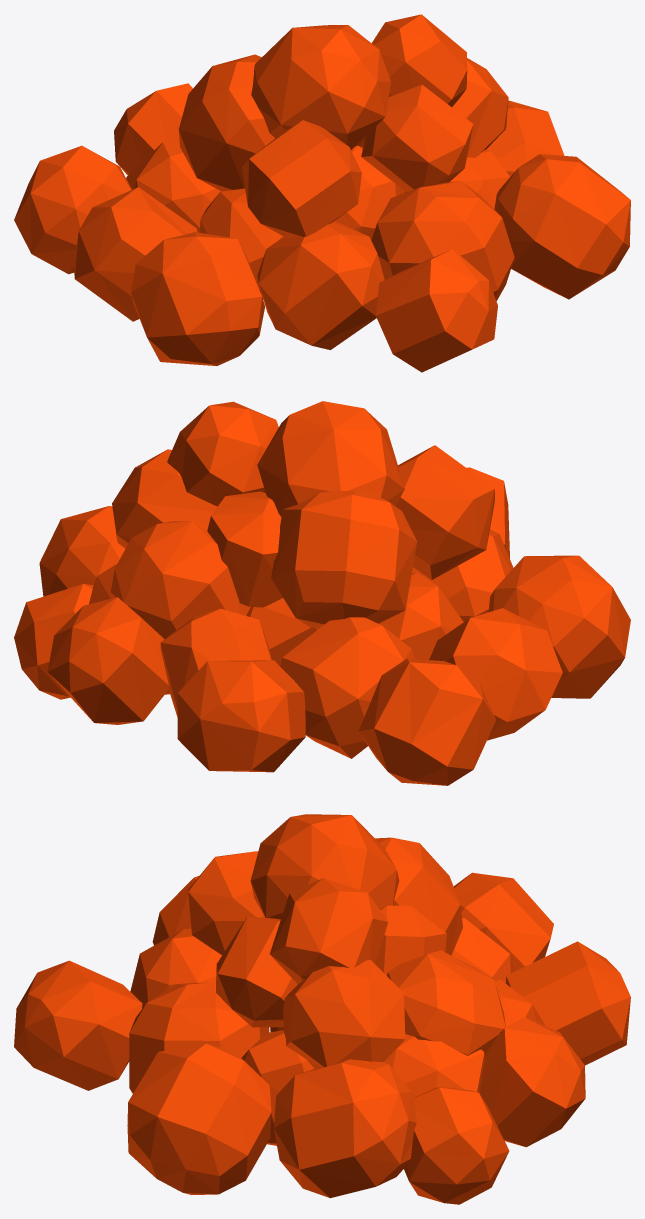
File: Pile of Tomatos.fbx
The picture shows the model from 3 angles, top to bottom: view 1: azimuth 30°, elevation 25°; view 2: azimuth 150°, elevation 25°; view 3: azimuth 270°, elevation 25°; orthographic projection. The views are drawn at different scales.
Parts seen in each view (by area): view 1: Pile of Tomatos; view 2: Pile of Tomatos; view 3: Pile of Tomatos.
Part boxes in pixels (bbox=[...]): Pile of Tomatos: bbox=[14, 14, 630, 372]; Pile of Tomatos: bbox=[14, 401, 630, 785]; Pile of Tomatos: bbox=[14, 814, 630, 1204].
Size of the model in its own units: 53.95 by 29.36 by 56.8.
